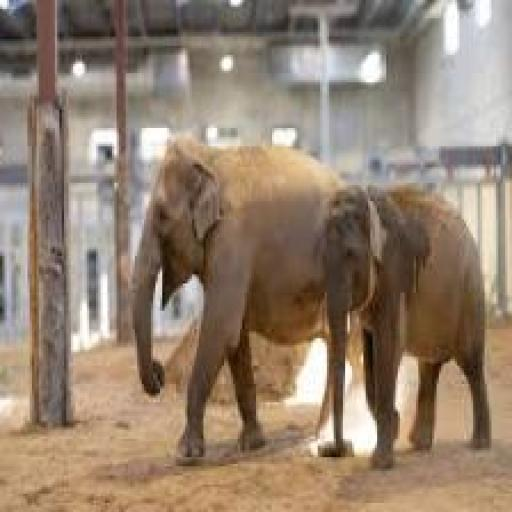Elephant: (130, 130, 494, 466)
